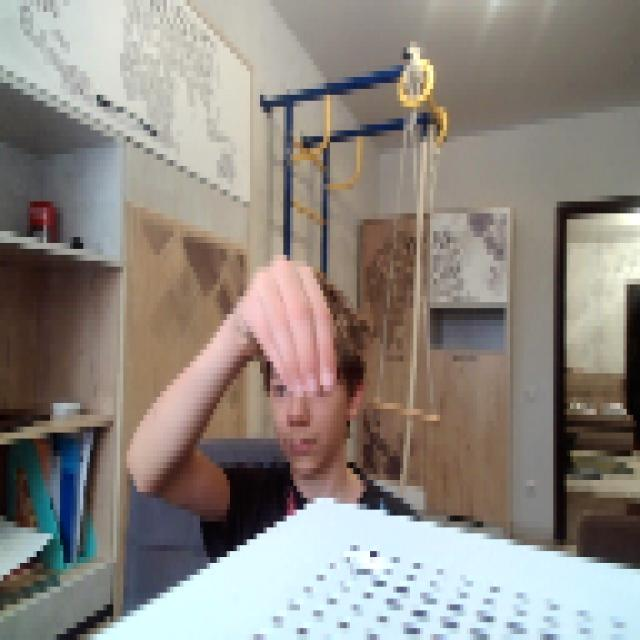left_click: (233, 243, 337, 391)
